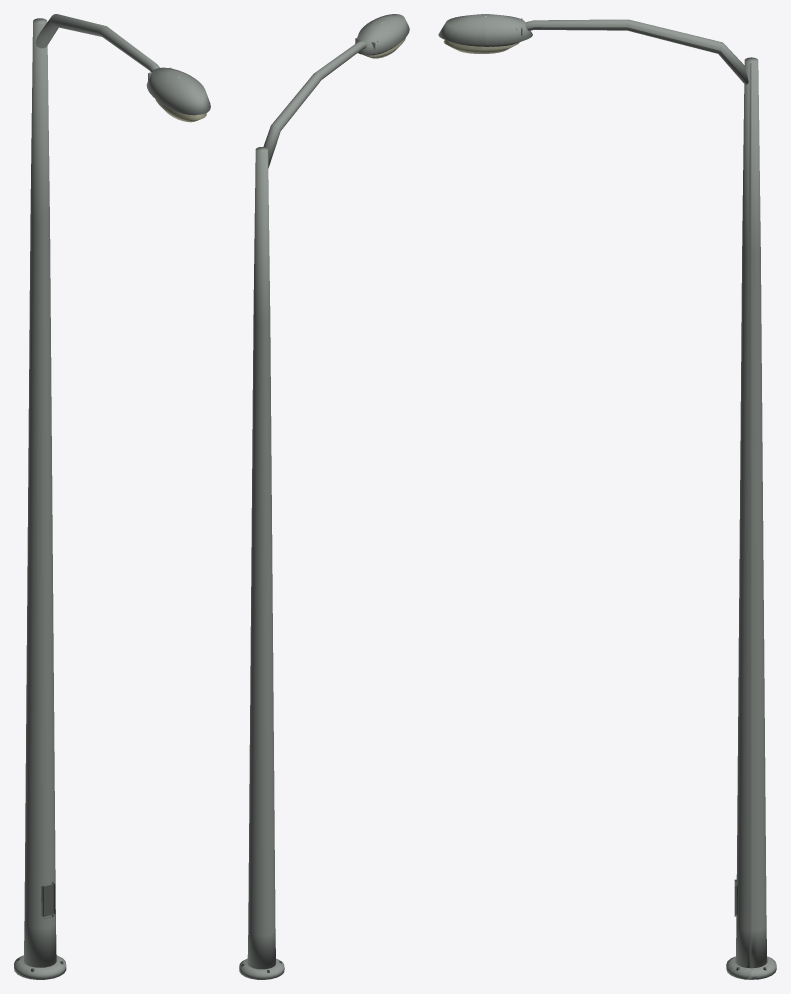
File: dock-street-lamp.glb
3 renders of one model, left to right at view 1: azimuth 30°, elevation 25°; view 2: azimuth 150°, elevation 25°; view 3: azimuth 270°, elevation 25°, orthographic. The views are drawn at different scales.
Parts seen in each view (by area): view 1: Frame; view 2: Frame; view 3: Frame.
Part boxes in pixels (x1=…): Frame: x1=14, y1=14, x2=210, y2=979; Frame: x1=239, y1=14, x2=409, y2=979; Frame: x1=438, y1=14, x2=776, y2=979.
Bounding box in the file's own units: 0.376 × 7.83 × 2.52.
